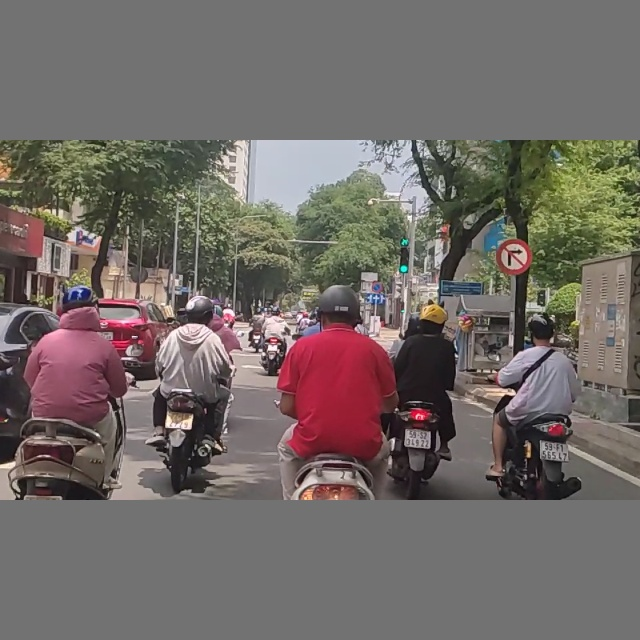P.123b: (499, 239, 531, 273)
P.131a: (371, 281, 383, 294)
